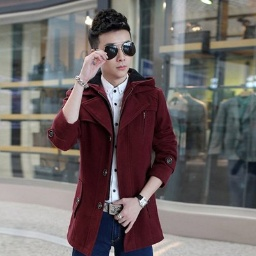face: (90, 7, 136, 78)
